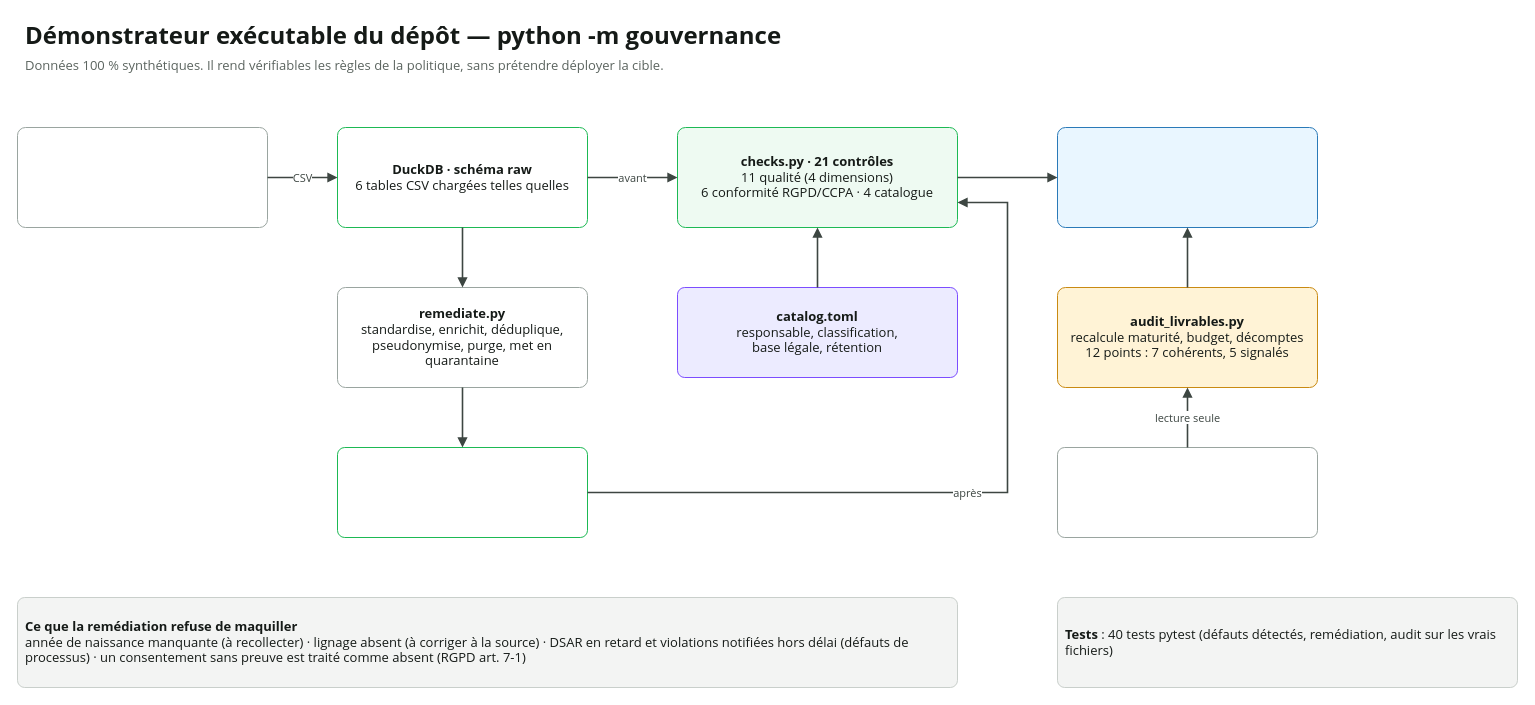
Some shapes in this 1535 by 705 pixel diagram are drawn without their labels. The centre of each missing label's shape, as x and y in pixels:
DuckDB · clean + quarantine recontrôlé avec les mêmes 21 règles: point (462, 492)
generate.py 5 000 utilisateurs, ~50 000 événements 13 types de défauts injectés: point (142, 177)
Livrables du dépôt 01 évaluation · 02c politique 03 plan · 04 présentation: point (1187, 492)
report.py rapport.json + rapport.html KPIs avant / après vs cibles: point (1187, 177)
